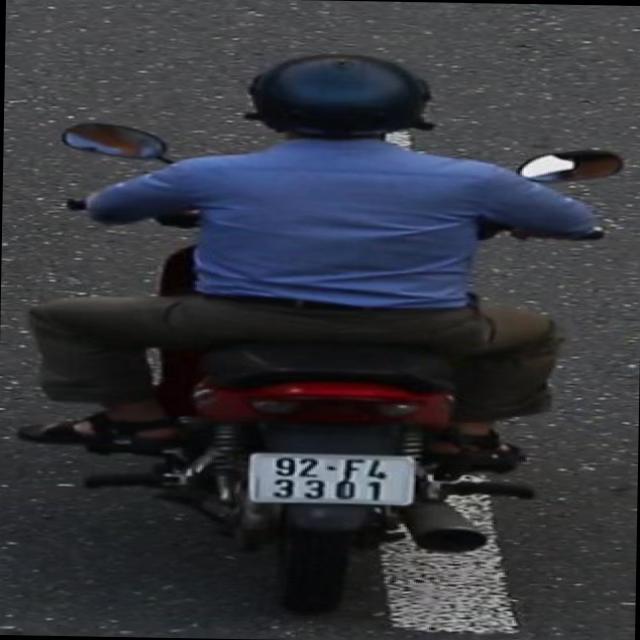LP: (242, 447, 424, 511)
helmet: (232, 50, 442, 167)
